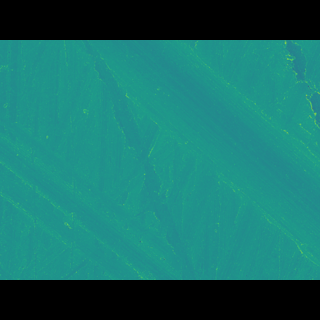Loch: (82, 69, 319, 242), (0, 129, 192, 251)
